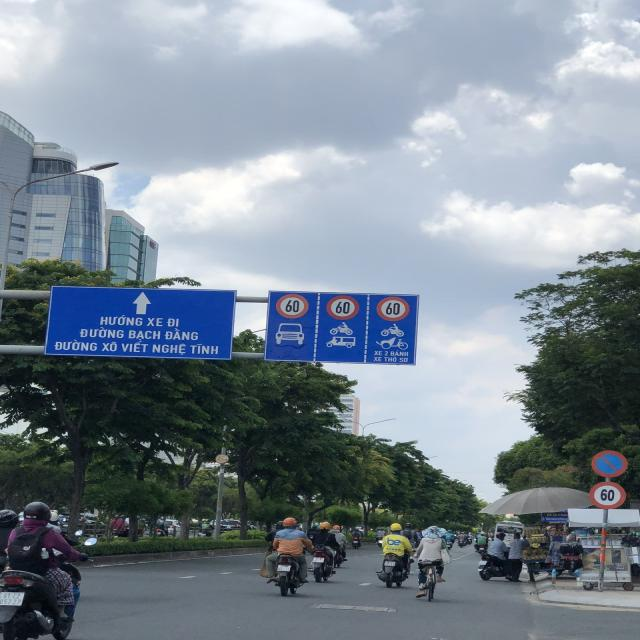Bien bao cam do xe: (588, 446, 629, 479)
Bien bao toc do toi da cho phep: (586, 479, 627, 512), (374, 294, 414, 322), (273, 289, 308, 319), (322, 294, 362, 320)
